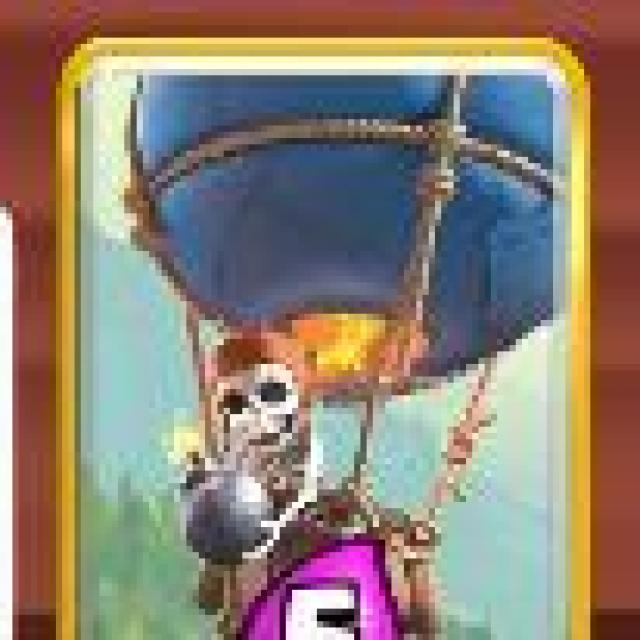Balloon: (51, 35, 596, 640)
